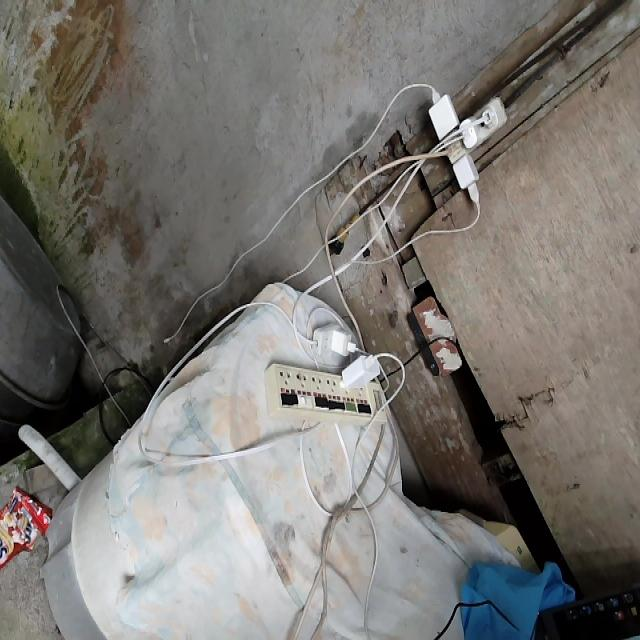-: (427, 82, 505, 202)
